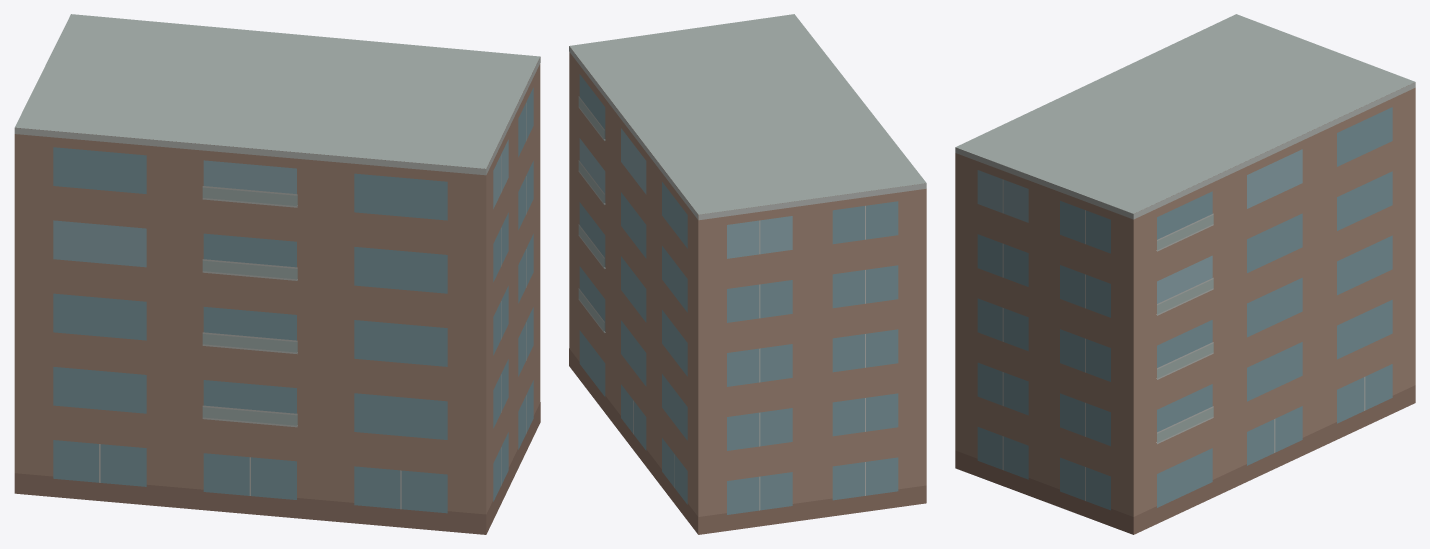
The model's file is survey-upis-32972539.glb.
3 renders of one model, left to right at view 1: azimuth 30°, elevation 25°; view 2: azimuth 150°, elevation 25°; view 3: azimuth 270°, elevation 25°, orthographic. The views are drawn at different scales.
Visible parts, largest first — view 1: survey-upis-32972539.tmp; view 2: survey-upis-32972539.tmp; view 3: survey-upis-32972539.tmp.
Part boxes in pixels (x1,y1,x2,y2): survey-upis-32972539.tmp: (14, 14, 540, 534); survey-upis-32972539.tmp: (569, 14, 926, 534); survey-upis-32972539.tmp: (955, 14, 1415, 534).
Bounding box in the file's own units: 18.58 × 13.9 × 18.08.
